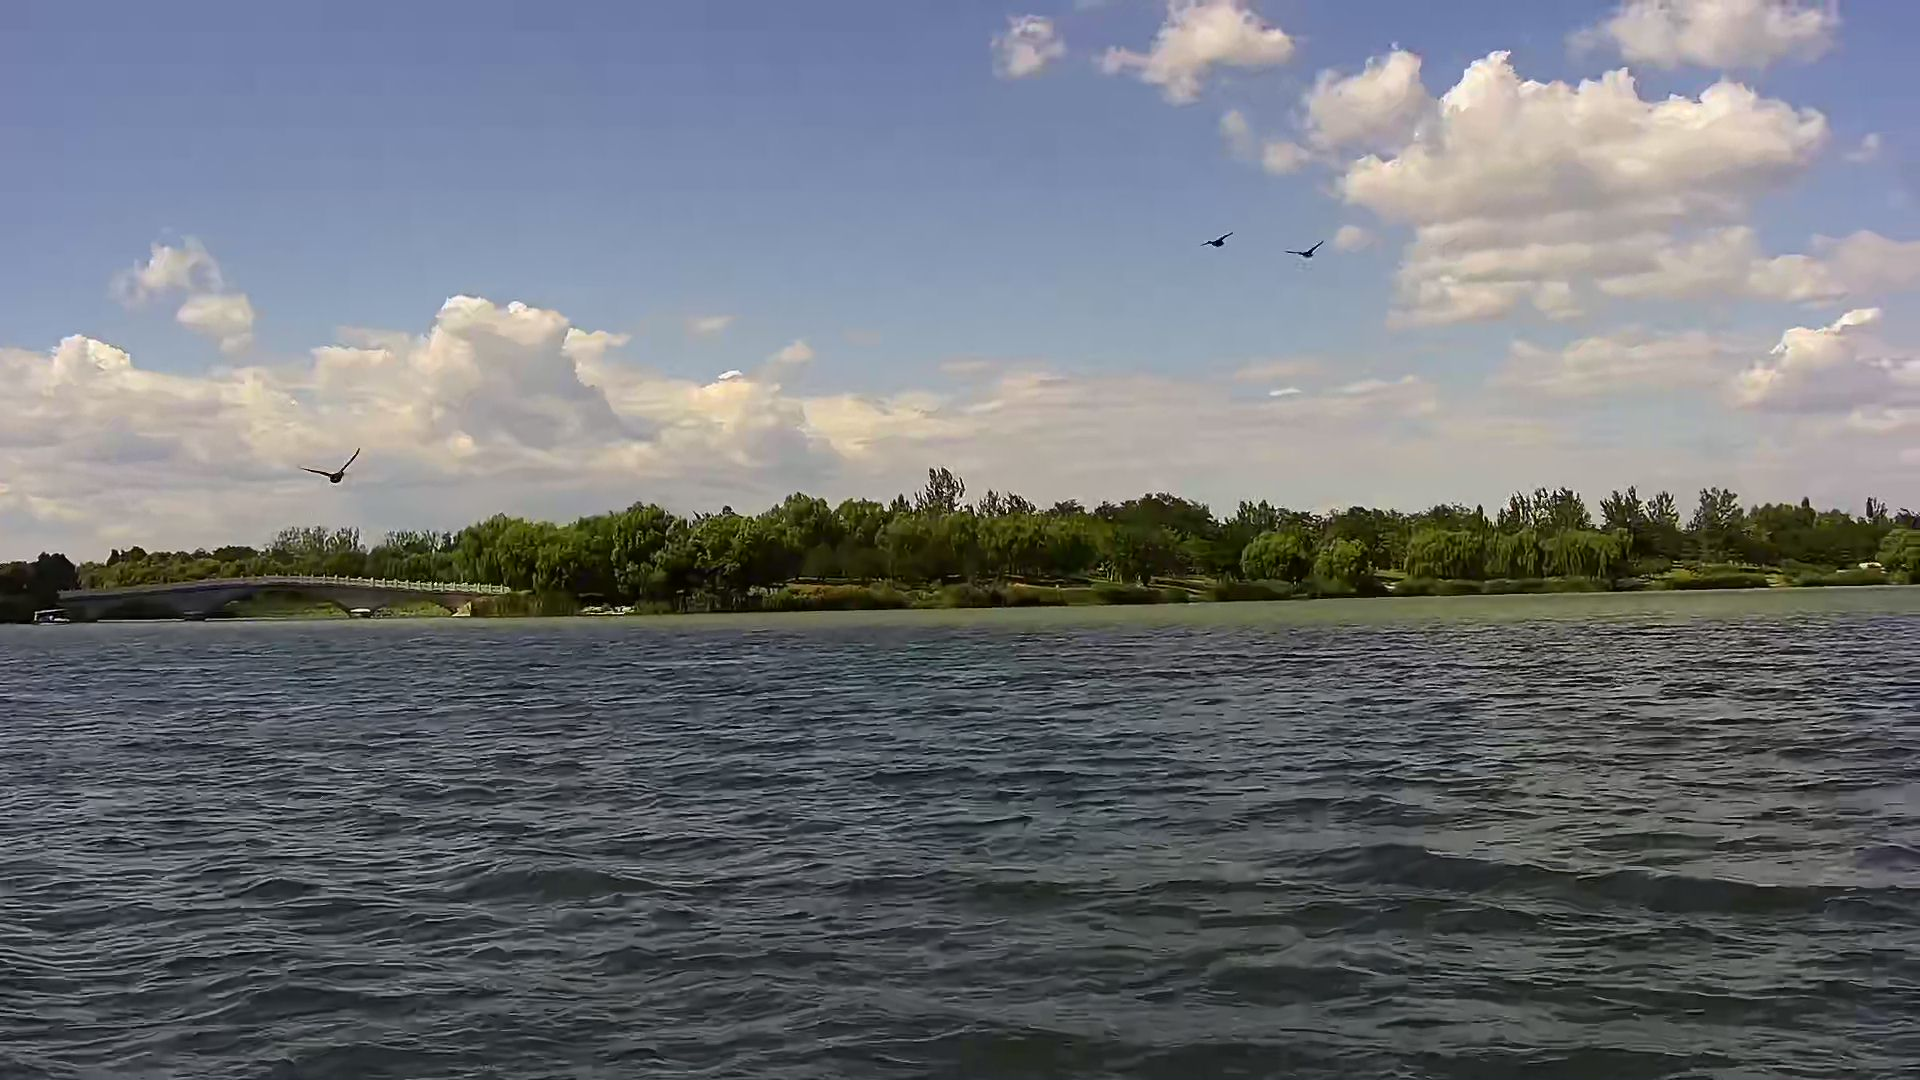bridge: (53, 570, 516, 634)
